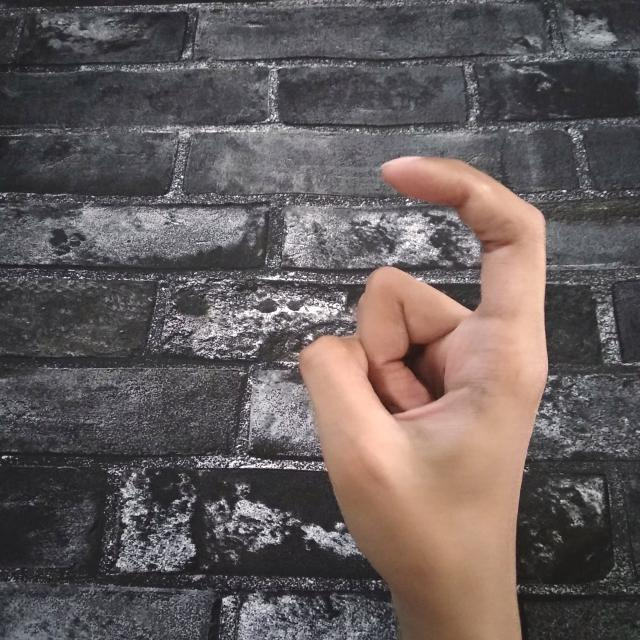X: (293, 148, 559, 640)
